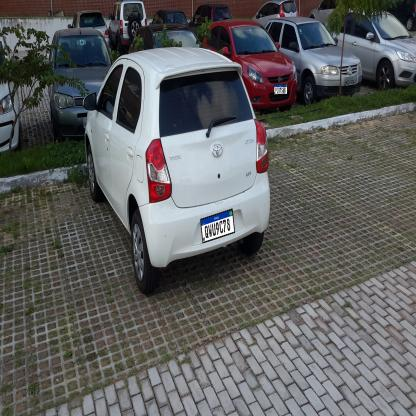PlacaM: (200, 208, 235, 244), (274, 84, 287, 95)
